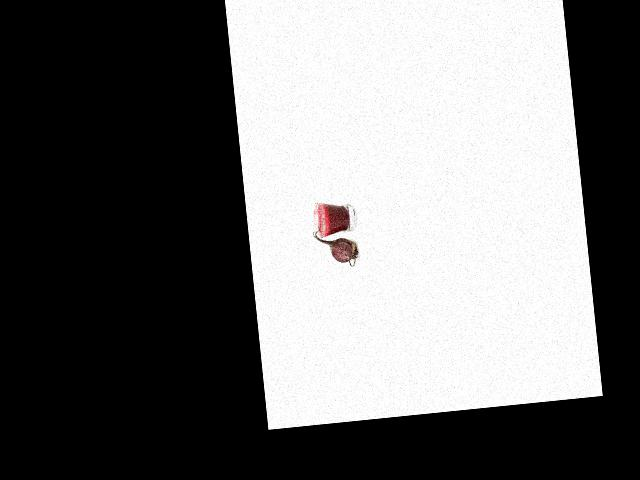beet: (312, 221, 360, 269)
